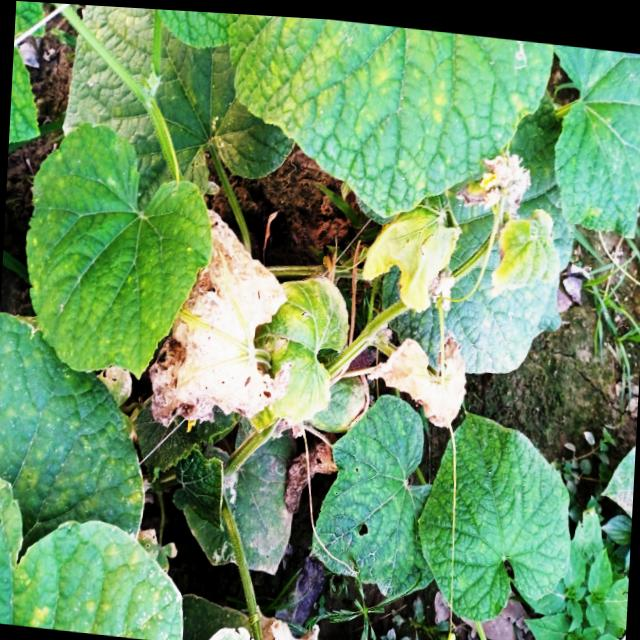Bacterial-Wilt: (148, 206, 292, 427), (361, 189, 462, 310), (366, 327, 468, 424)
